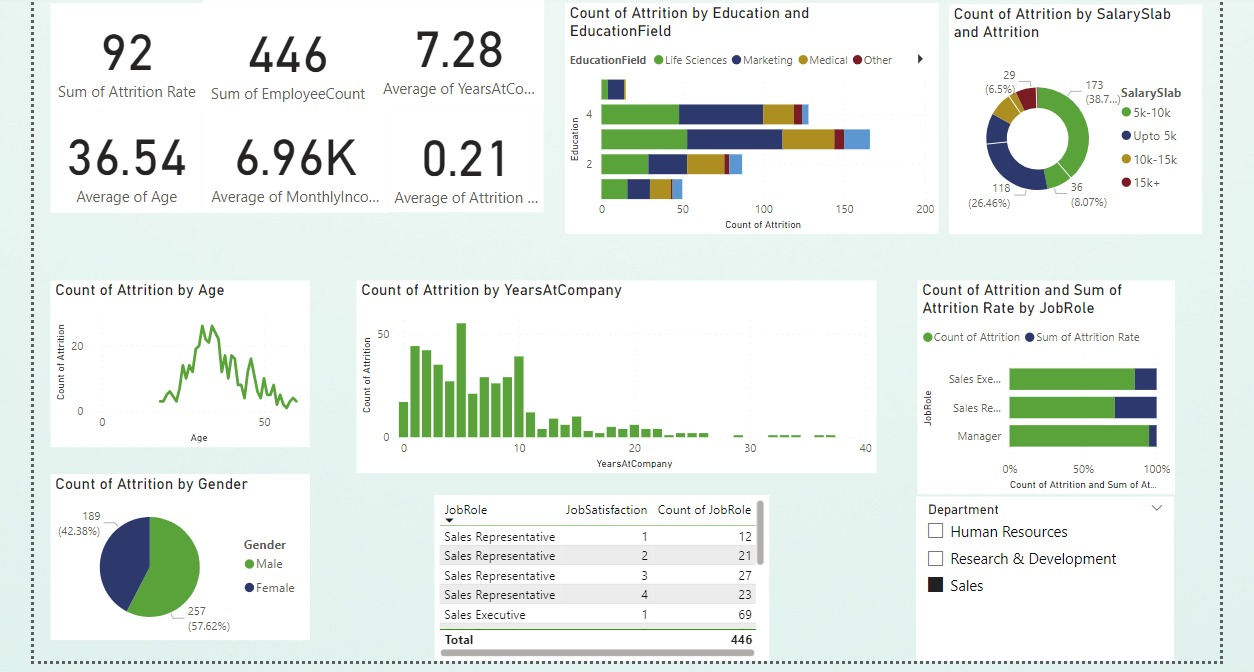

The dashboard page shown, as its layout file describes it:
{"tool":"powerbi","page":{"name":"Page 1","canvas":[1280,720],"ordinal":0},"visuals":[{"type":"card","fields":{"Values":["Sum(Cleaned_HR_Analytics.Attrition Rate)"]},"box":[17,9.4,164.4,113.4],"z":0},{"type":"card","fields":{"Values":["Sum(Cleaned_HR_Analytics.EmployeeCount)"]},"box":[181.4,0,185.2,136.1],"z":1000},{"type":"barChart","fields":{"Category":["Cleaned_HR_Analytics.Education"],"Y":["CountNonNull(Cleaned_HR_Analytics.Attrition)"],"Series":["Cleaned_HR_Analytics.EducationField"]},"box":[573.2,9.7,403.2,249.4],"z":2000},{"type":"donutChart","fields":{"Category":["Cleaned_HR_Analytics.SalarySlab"],"Series":["Cleaned_HR_Analytics.Attrition"],"Y":["CountNonNull(Cleaned_HR_Analytics.Attrition)"]},"box":[987.7,11.3,273.6,247.7],"z":3000},{"type":"lineChart","fields":{"Y":["CountNonNull(Cleaned_HR_Analytics.Attrition)"],"Category":["Cleaned_HR_Analytics.Age"]},"box":[17.8,309.3,280.1,179.7],"z":4000},{"type":"columnChart","fields":{"Y":["CountNonNull(Cleaned_HR_Analytics.Attrition)"],"Category":["Cleaned_HR_Analytics.YearsAtCompany"]},"box":[347.7,309.9,561.3,207.9],"z":5000},{"type":"hundredPercentStackedBarChart","fields":{"Category":["Cleaned_HR_Analytics.JobRole"],"Y":["CountNonNull(Cleaned_HR_Analytics.Attrition)","Sum(Cleaned_HR_Analytics.Attrition Rate)"]},"box":[954.3,309.9,277.8,230.6],"z":6000},{"type":"pieChart","fields":{"Category":["Cleaned_HR_Analytics.Gender"],"Y":["CountNonNull(Cleaned_HR_Analytics.Attrition)"]},"box":[17,517.8,279.7,179.5],"z":7000},{"type":"tableEx","fields":{"Values":["Cleaned_HR_Analytics.JobRole","Cleaned_HR_Analytics.JobSatisfaction","CountNonNull(Cleaned_HR_Analytics.JobRole)"]},"box":[432.3,540.8,361.1,179.7],"z":8000},{"type":"card","fields":{"Values":["Avg(Cleaned_HR_Analytics.Age)"]},"box":[17.8,123.1,163.5,113.3],"z":9000},{"type":"card","fields":{"Values":["Avg(Cleaned_HR_Analytics.MonthlyIncome)"]},"box":[181.4,123.1,200.8,113.3],"z":10000},{"type":"card","fields":{"Values":["Avg(Cleaned_HR_Analytics.YearsAtCompany)"]},"box":[365.9,0,184.6,126.3],"z":11000},{"type":"card","fields":{"Values":["Avg(Cleaned_HR_Analytics.Attrition Rate)"]},"box":[381.7,126.6,168.2,109.6],"z":12000},{"type":"slicer","fields":{"Values":["Cleaned_HR_Analytics.Department"]},"box":[952,541.8,278.8,177.3],"z":13000}]}

Visuals, with their boxes on the page's 1280x720 design canvas (x1, y1, x2, y2). These are canvas units, not pixel positions in the 1254x672 screenshot, which may show the page scaled, cropped or inside an application window:
card - Sum(Cleaned_HR_Analytics.Attrition Rate): [left=17, top=9, right=181, bottom=123]
card - Sum(Cleaned_HR_Analytics.EmployeeCount): [left=181, top=0, right=367, bottom=136]
barChart - Cleaned_HR_Analytics.Education x CountNonNull(Cleaned_HR_Analytics.Attrition): [left=573, top=10, right=976, bottom=259]
donutChart - Cleaned_HR_Analytics.SalarySlab x Cleaned_HR_Analytics.Attrition: [left=988, top=11, right=1261, bottom=259]
lineChart - CountNonNull(Cleaned_HR_Analytics.Attrition) x Cleaned_HR_Analytics.Age: [left=18, top=309, right=298, bottom=489]
columnChart - CountNonNull(Cleaned_HR_Analytics.Attrition) x Cleaned_HR_Analytics.YearsAtCompany: [left=348, top=310, right=909, bottom=518]
hundredPercentStackedBarChart - Cleaned_HR_Analytics.JobRole x CountNonNull(Cleaned_HR_Analytics.Attrition): [left=954, top=310, right=1232, bottom=540]
pieChart - Cleaned_HR_Analytics.Gender x CountNonNull(Cleaned_HR_Analytics.Attrition): [left=17, top=518, right=297, bottom=697]
tableEx - Cleaned_HR_Analytics.JobRole x Cleaned_HR_Analytics.JobSatisfaction: [left=432, top=541, right=793, bottom=720]
card - Avg(Cleaned_HR_Analytics.Age): [left=18, top=123, right=181, bottom=236]
card - Avg(Cleaned_HR_Analytics.MonthlyIncome): [left=181, top=123, right=382, bottom=236]
card - Avg(Cleaned_HR_Analytics.YearsAtCompany): [left=366, top=0, right=550, bottom=126]
card - Avg(Cleaned_HR_Analytics.Attrition Rate): [left=382, top=127, right=550, bottom=236]
slicer - Cleaned_HR_Analytics.Department: [left=952, top=542, right=1231, bottom=719]
